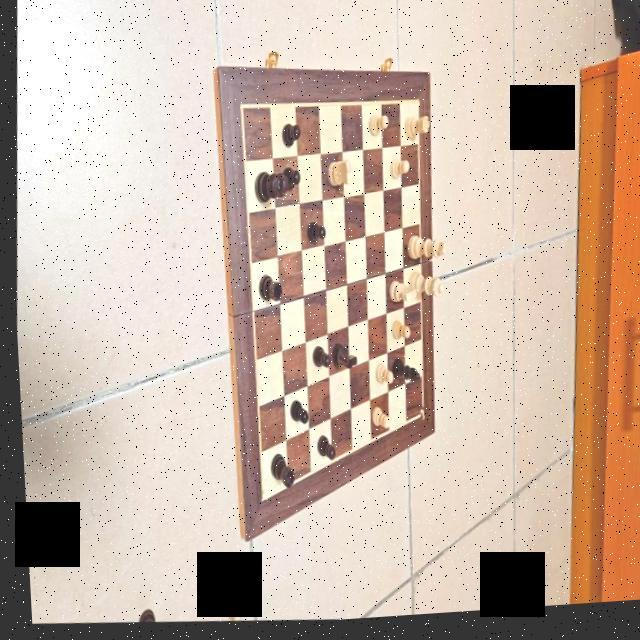chess-table-corners: (234, 104, 244, 118), (253, 493, 262, 508), (414, 412, 421, 426), (412, 102, 418, 113)
